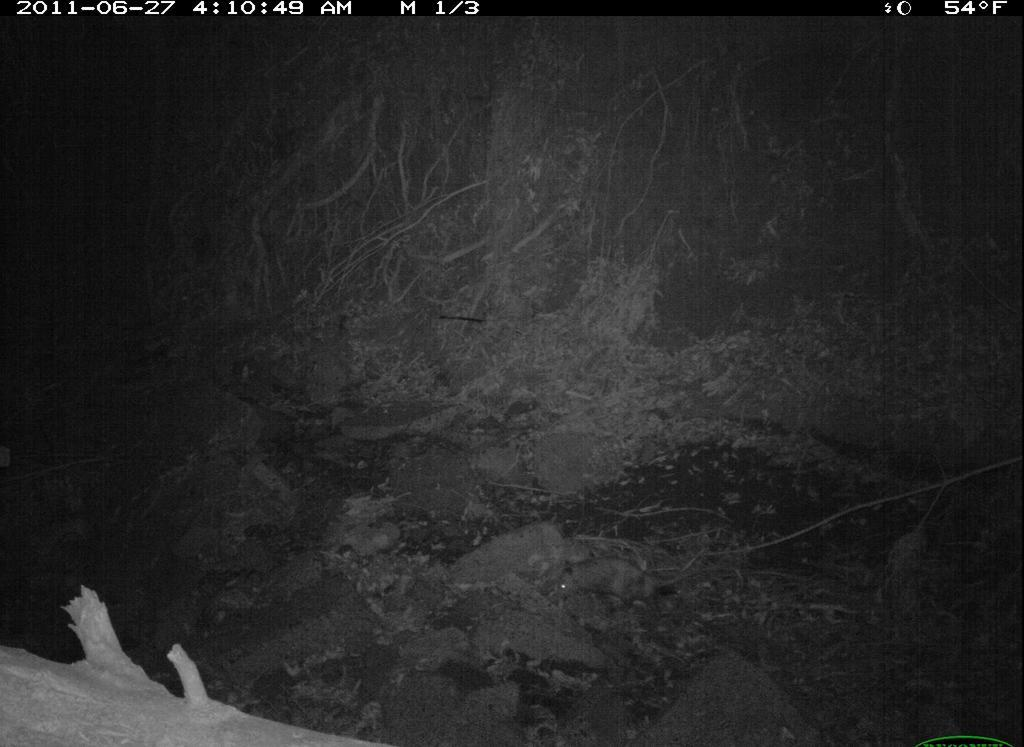opossum: (550, 546, 703, 616)
